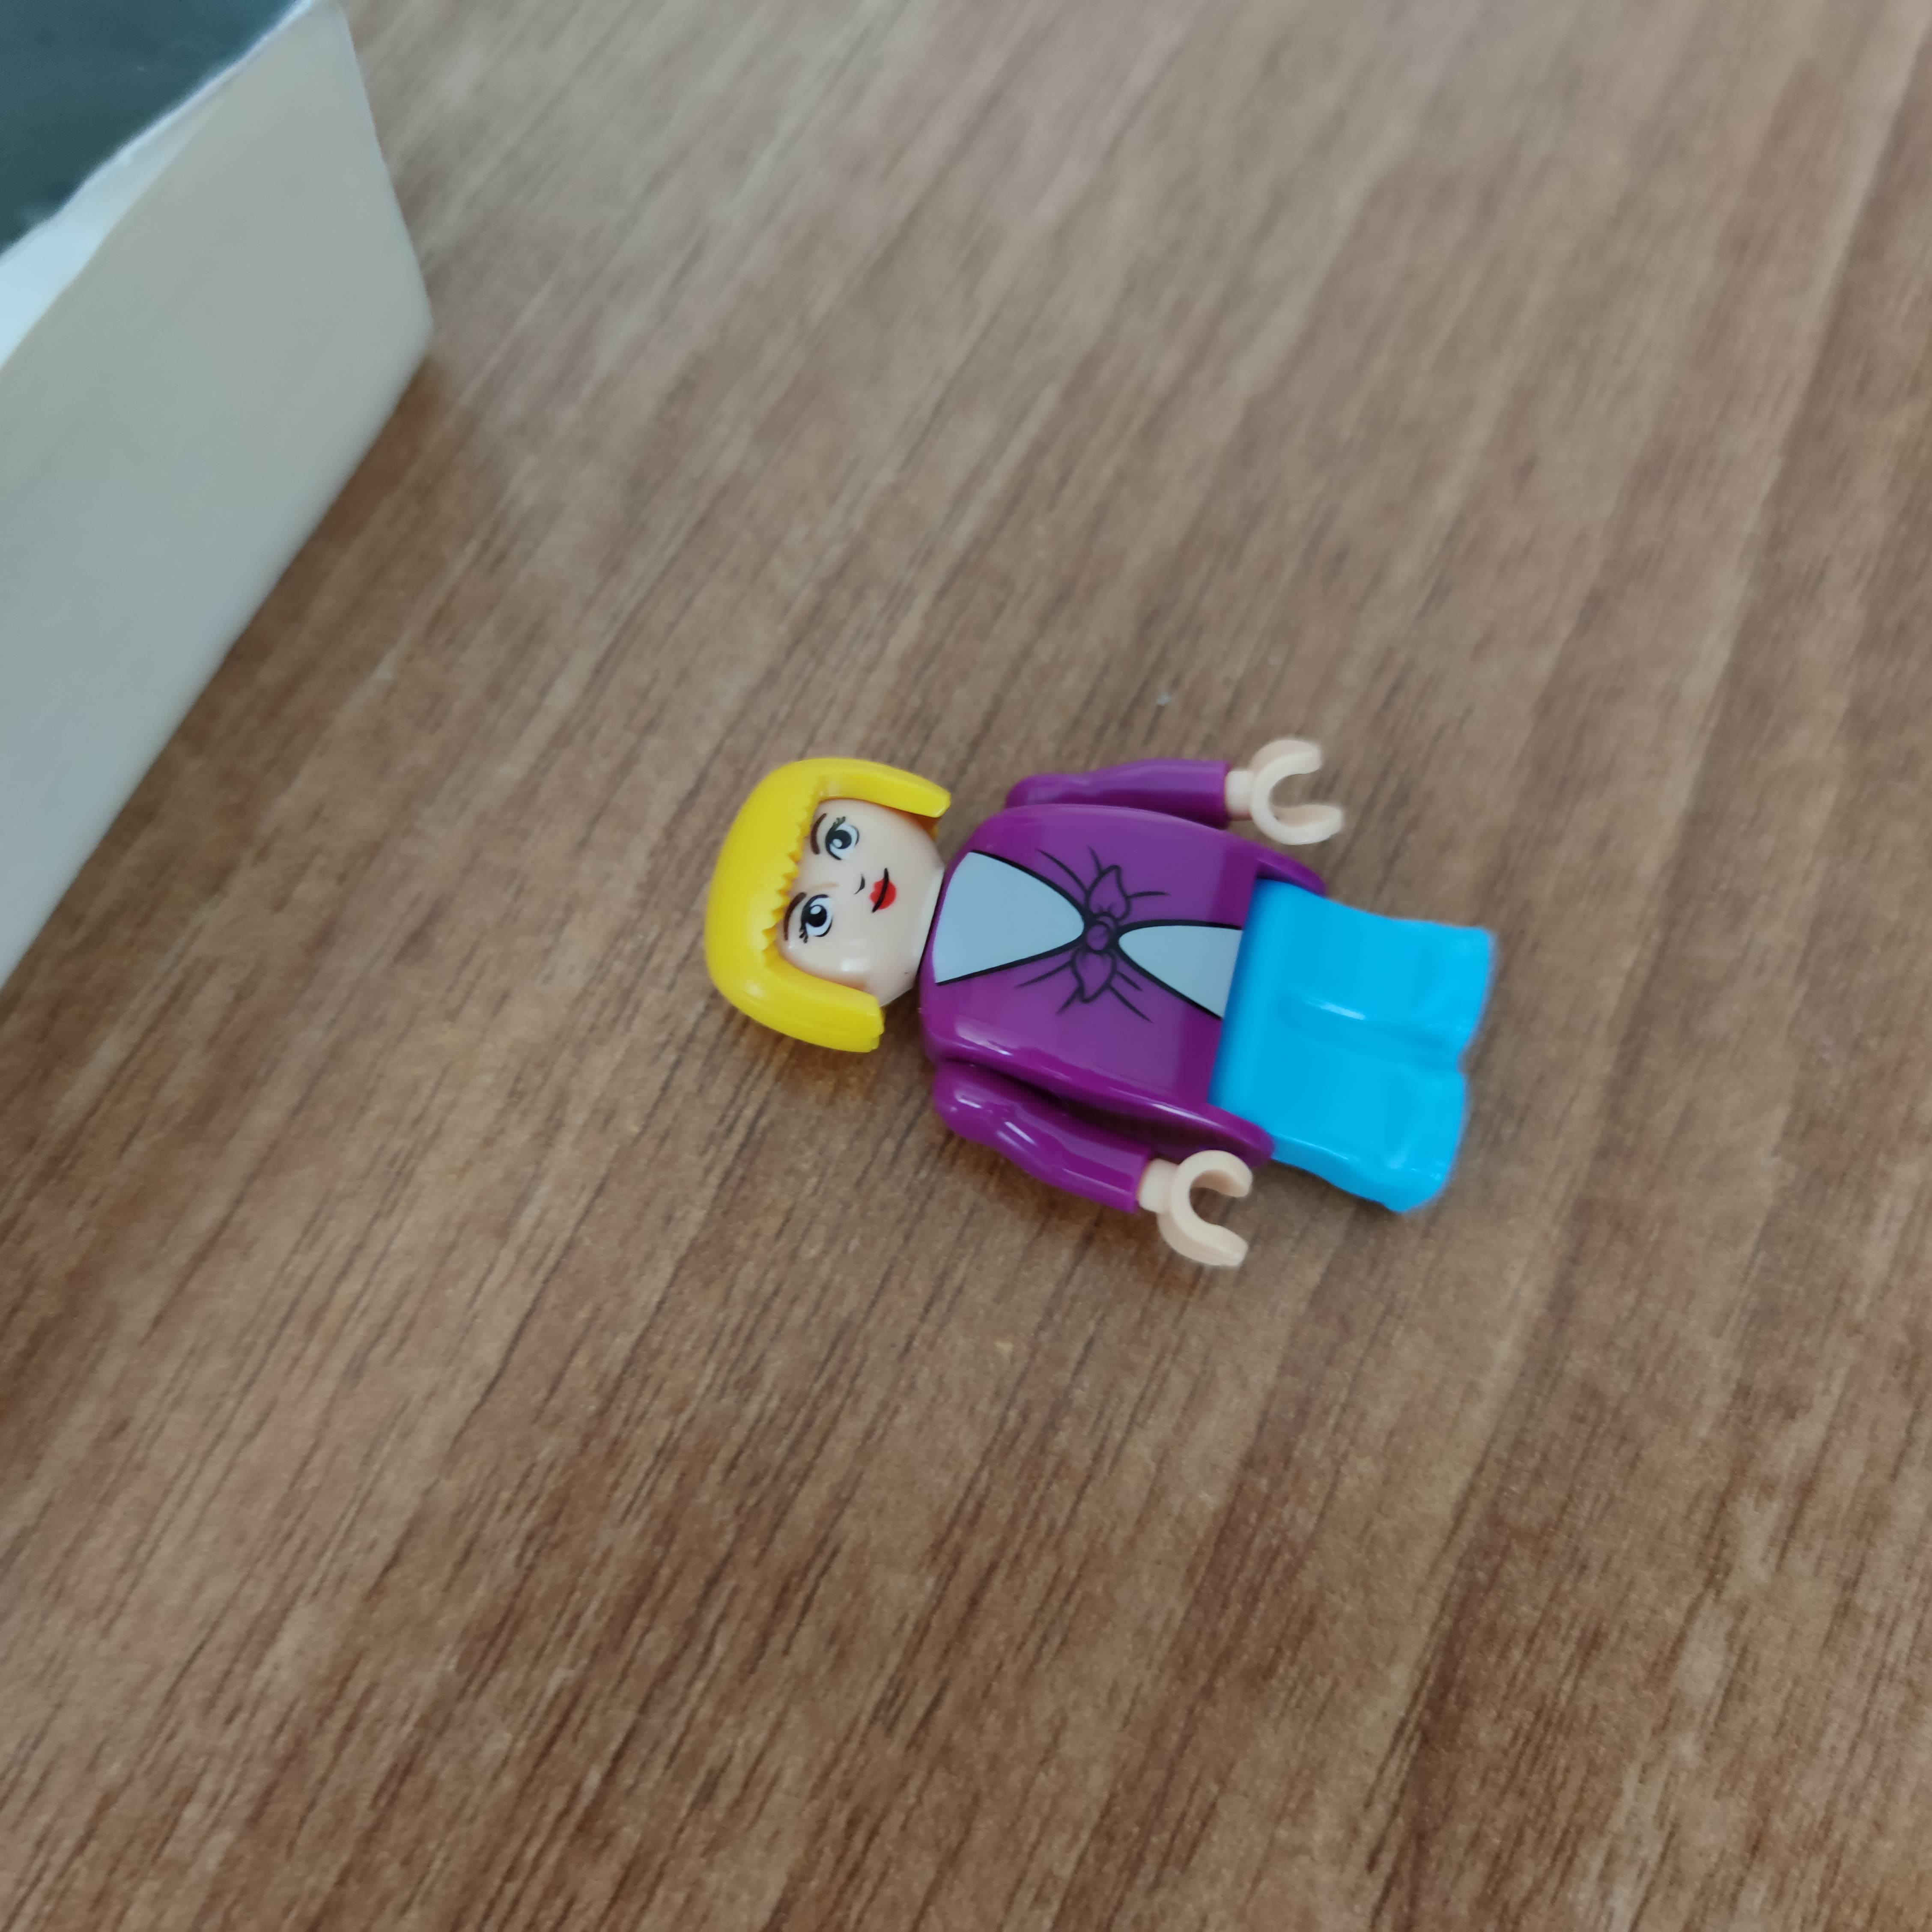lego: (713, 709, 1479, 1300)
